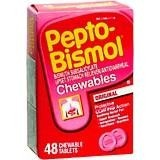grozi_97: (26, 0, 134, 160)
